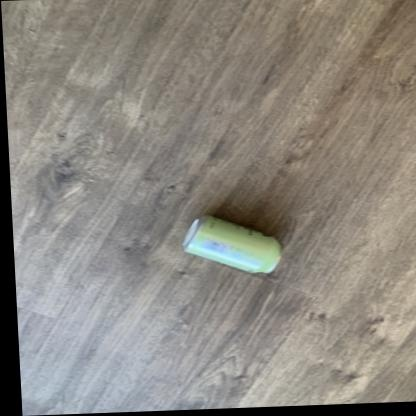trash: (182, 216, 280, 272)
